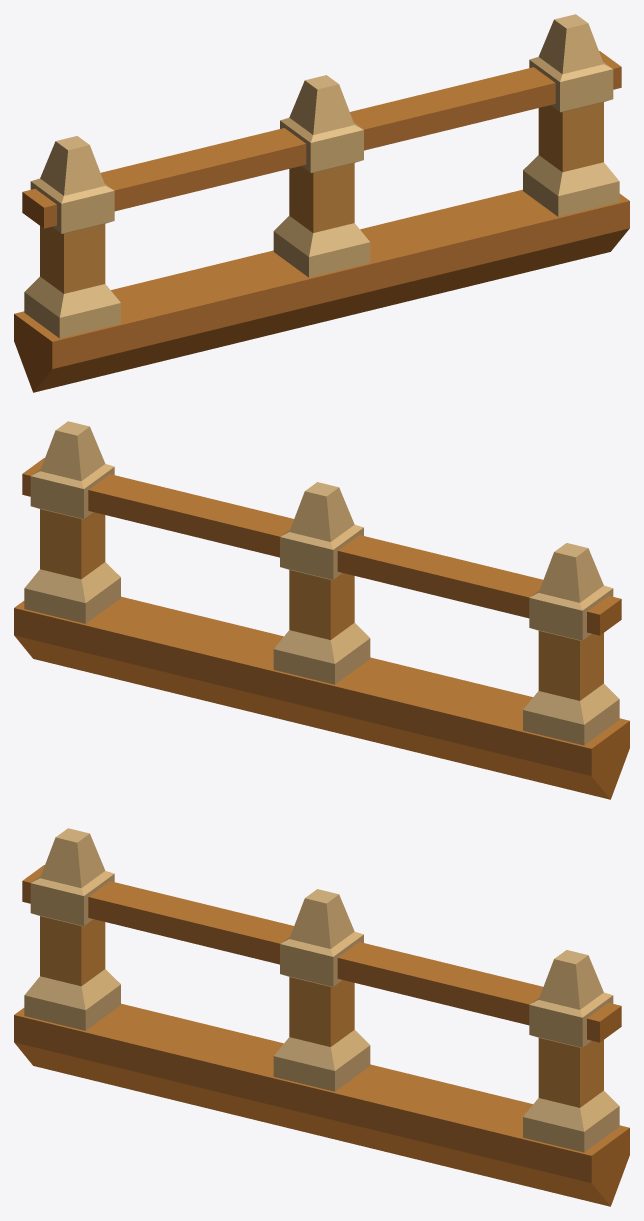
Rendered from ST_Env_Railing_03.fbx.
3 views of the same model, one above another, from view 1: azimuth 30°, elevation 25°; view 2: azimuth 150°, elevation 25°; view 3: azimuth 330°, elevation 25° (orthographic).
Visible parts, largest first — view 1: ST_Env_Railing_03; view 2: ST_Env_Railing_03; view 3: ST_Env_Railing_03.
Part boxes in pixels (x1,y1,x2,y2): ST_Env_Railing_03: (14, 14, 629, 392); ST_Env_Railing_03: (14, 421, 629, 799); ST_Env_Railing_03: (14, 828, 629, 1206).
Bounding box in the file's own units: 5 × 1.99 × 0.5761.
